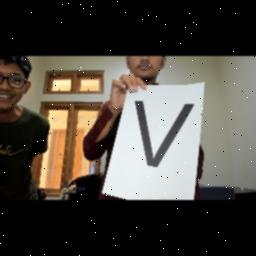v: (128, 92, 198, 174)
